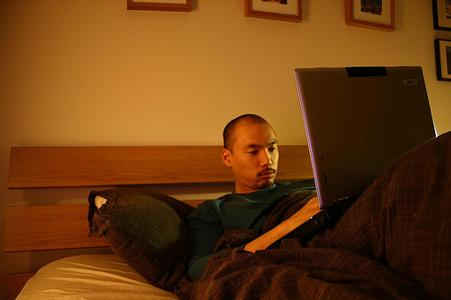person: (180, 114, 321, 280)
